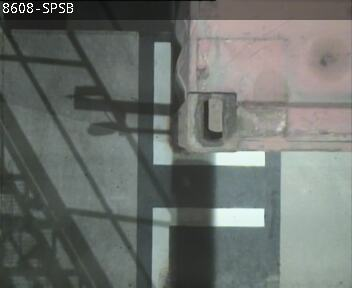groundmarker_1: (153, 42, 267, 286)
